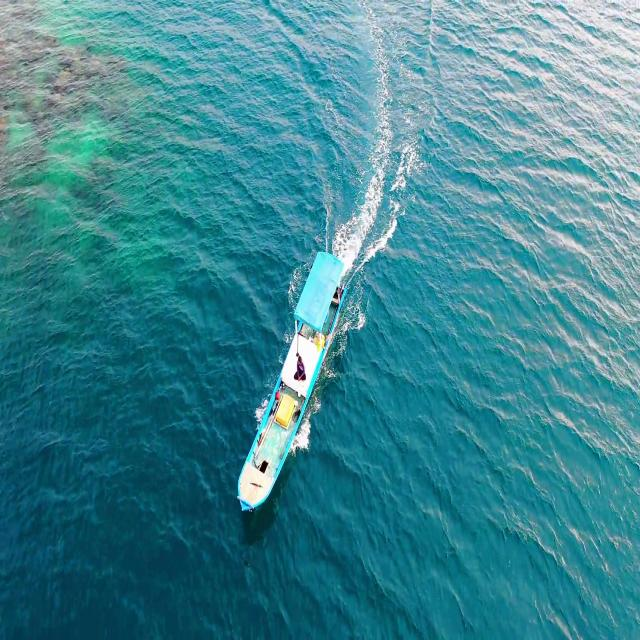ship: (232, 245, 356, 517)
